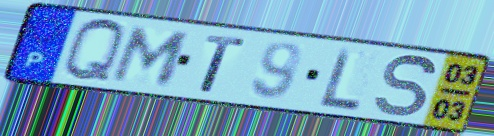9: (249, 41, 306, 102)
L: (317, 45, 364, 113)
M: (107, 24, 195, 88)
Q: (60, 16, 127, 85)
S: (373, 52, 440, 120)
T: (197, 32, 249, 95)
